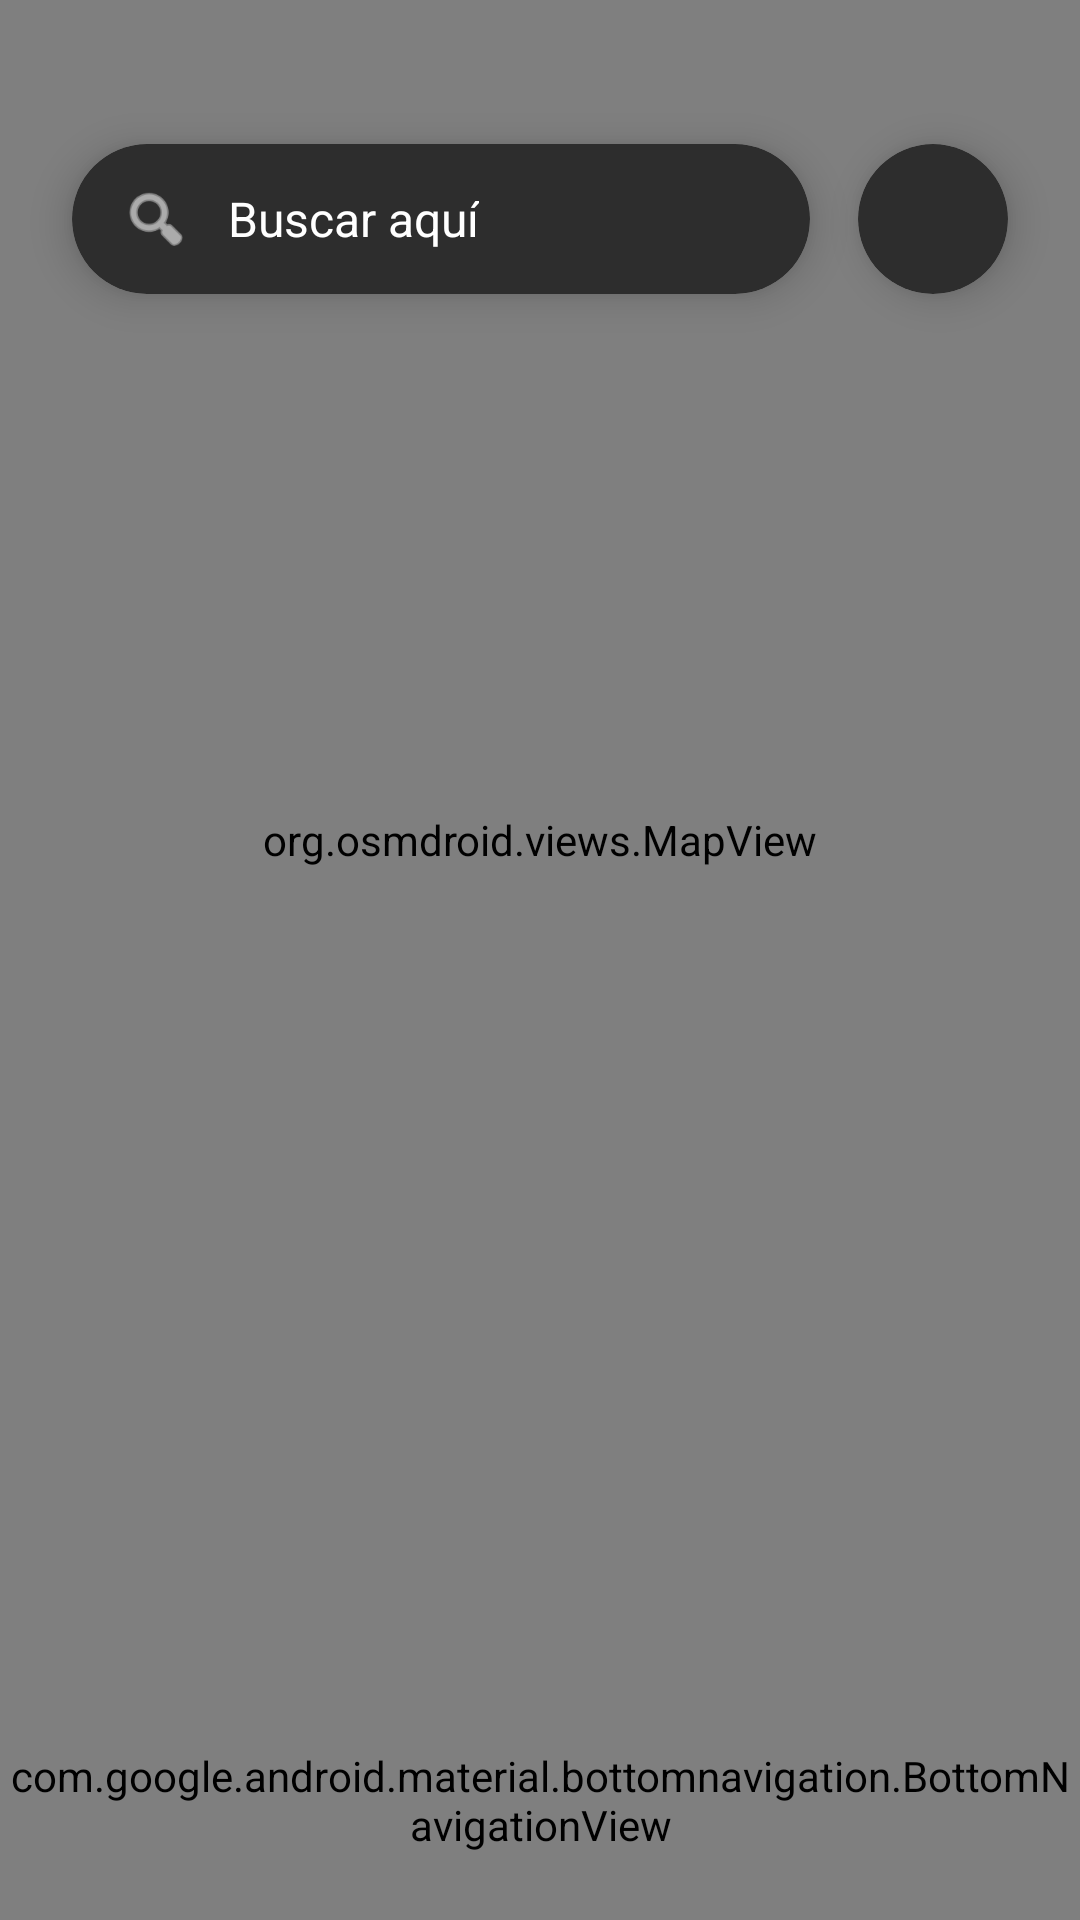

Icon bounding boxes for this 1080 x 1920 phone screenshot, format (x1, y1, x2, y2):
search: (129, 193, 183, 246)
